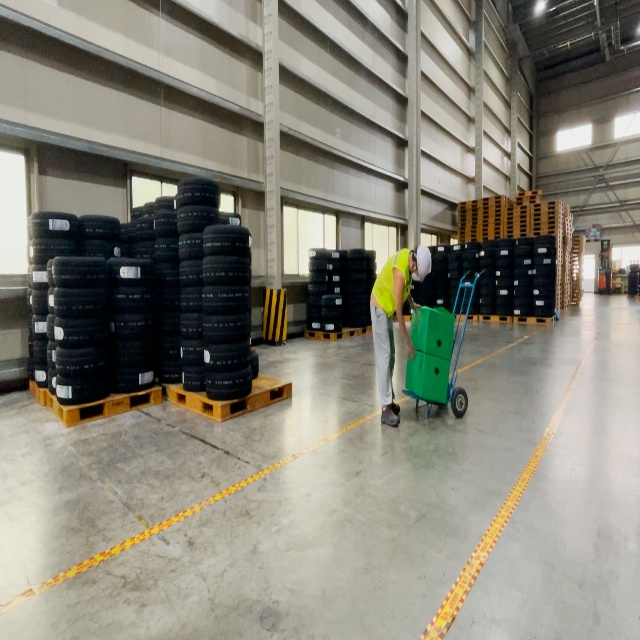Box: (409, 304, 456, 362), (405, 348, 451, 407)
Worker: (370, 244, 432, 427)
